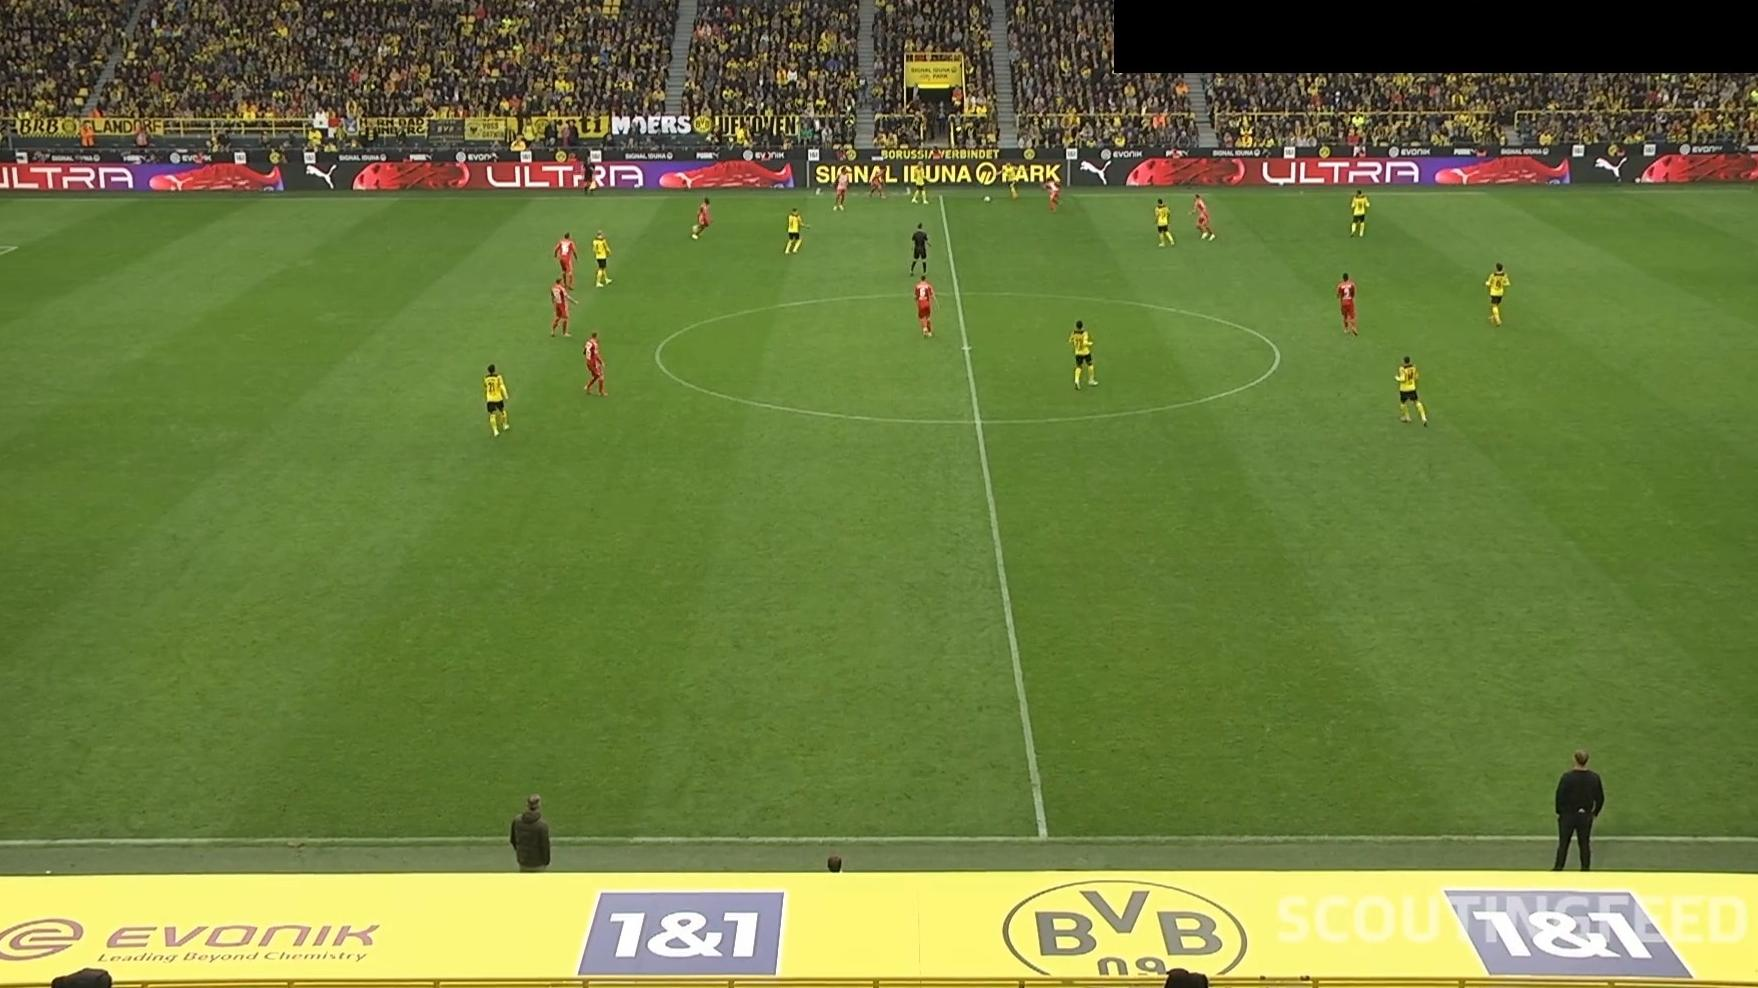ball: (982, 194, 991, 204)
